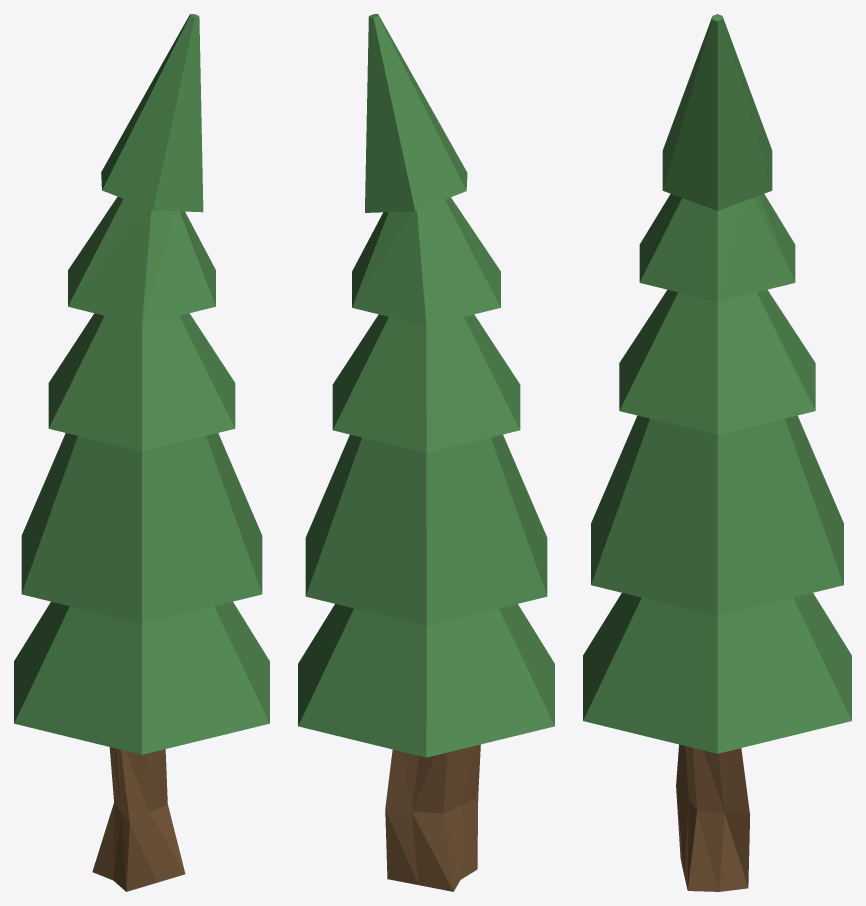
The model's file is tree3d-170.glb.
3 views of the same model, side by side, from view 1: azimuth 30°, elevation 25°; view 2: azimuth 150°, elevation 25°; view 3: azimuth 270°, elevation 25° (orthographic). The views are drawn at different scales.
Visible parts, largest first — view 1: tree3d-170; view 2: tree3d-170; view 3: tree3d-170.
Part boxes in pixels (x1=…): tree3d-170: x1=14, y1=14, x2=269, y2=891; tree3d-170: x1=298, y1=14, x2=554, y2=891; tree3d-170: x1=583, y1=14, x2=851, y2=891.
Bounding box in the file's own units: 0.3174 × 1 × 0.2749.
